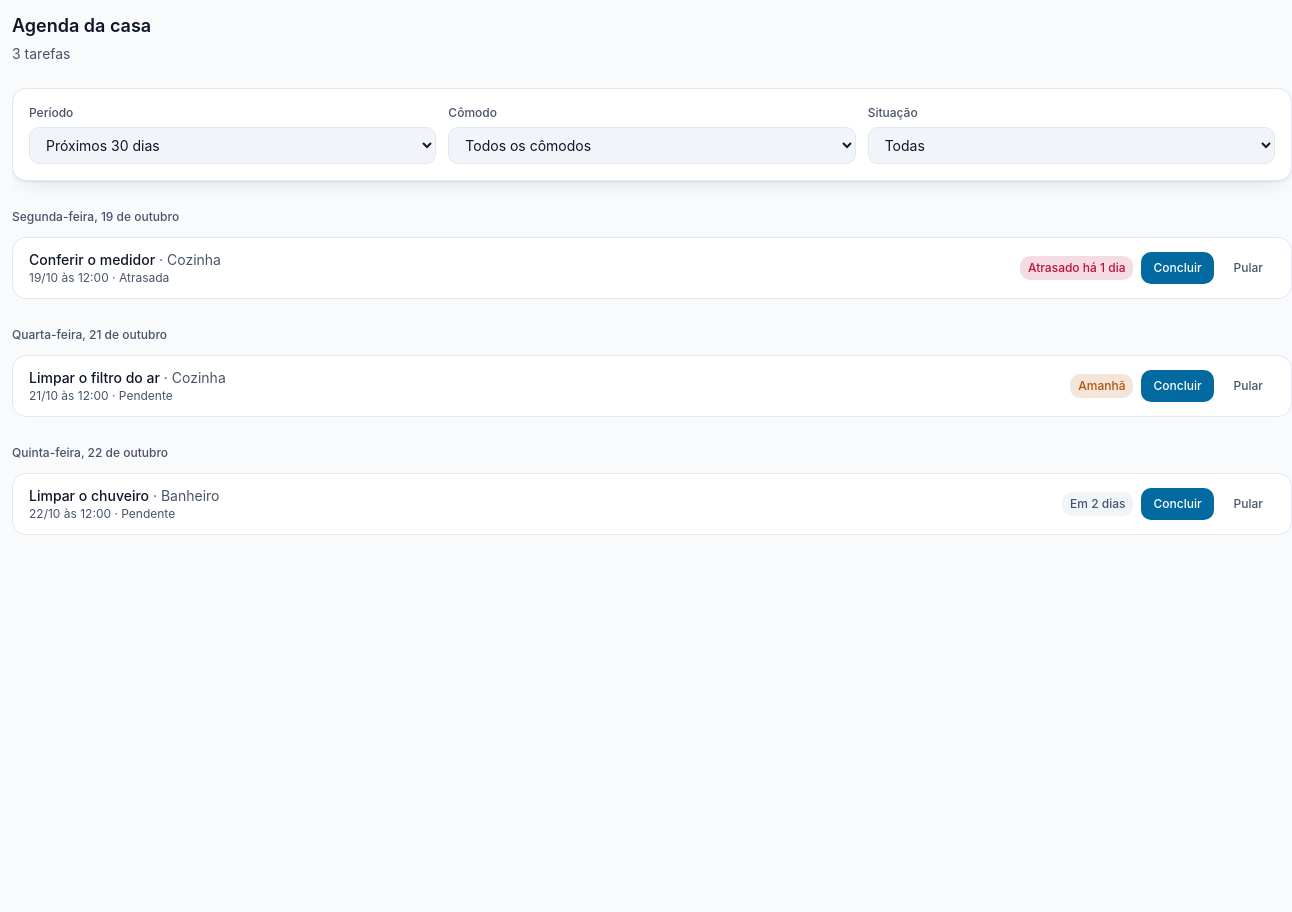
Test case: TimelinePage › dispensa a tarefa e explica que o ciclo não muda
Expected: the element with test id "timeline" is shown, [12,205,1291,535]
Step 1. Click the button "Pular" in the row of "Amanhã" → (1248, 386), box [1222,370,1275,402]
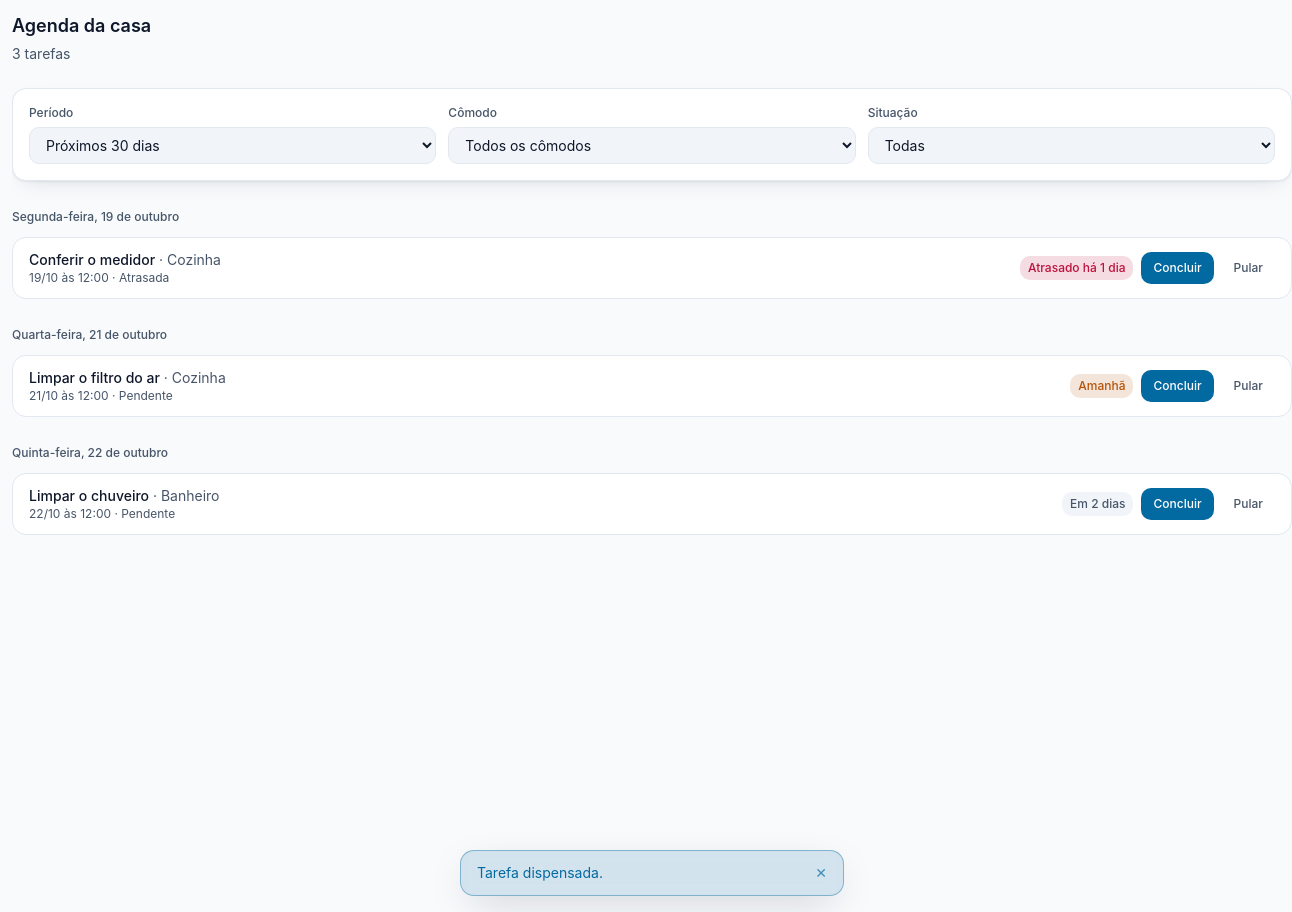
Now the text "Tarefa dispensada." is shown, box [477,863,603,883]
